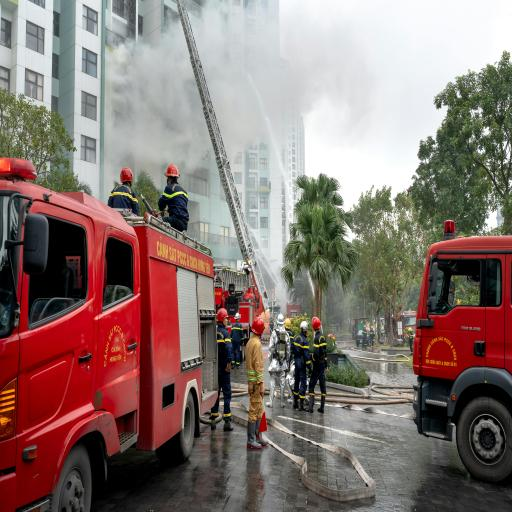smoke: (191, 0, 512, 207), (74, 15, 211, 199)
